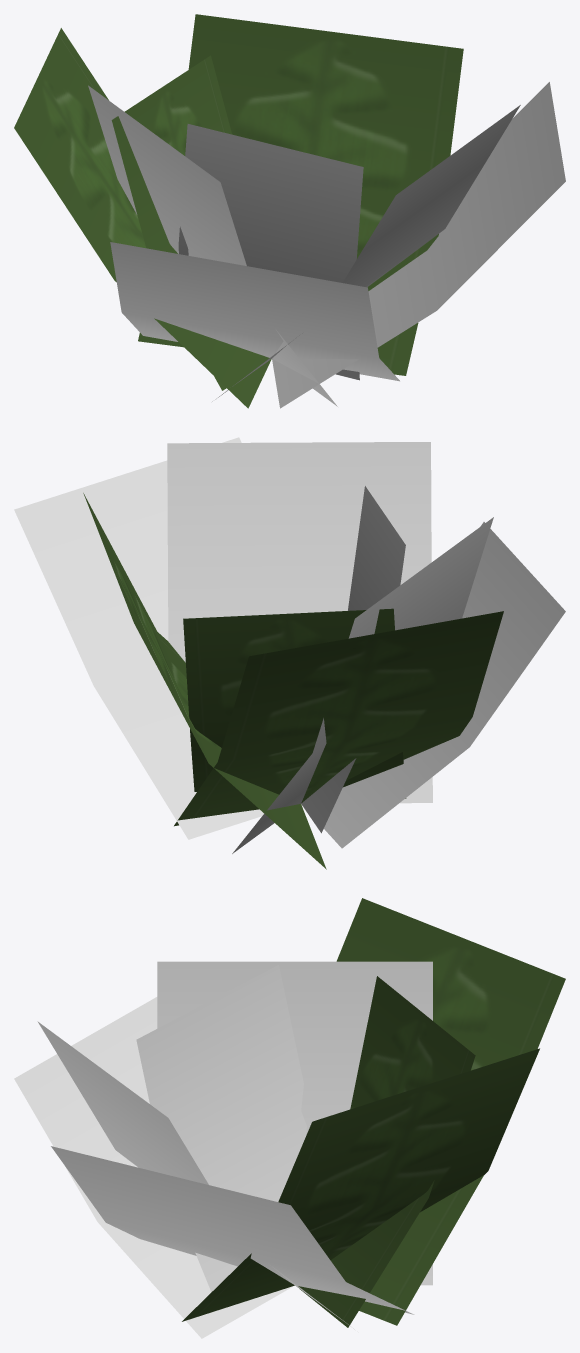
File: Plant_4.FBX
The picture shows the model from 3 angles, top to bottom: view 1: azimuth 30°, elevation 25°; view 2: azimuth 150°, elevation 25°; view 3: azimuth 270°, elevation 25°; orthographic projection. The views are drawn at different scales.
Parts seen in each view (by area): view 1: Plane020, Plane026, Plane024, Plane022, Plane025, Plane019, Plane021, Plane023; view 2: Plane021, Plane025, Plane024, Plane026, Plane023, Plane019, Plane020, Plane022; view 3: Plane020, Plane022, Plane025, Plane024, Plane019, Plane026, Plane023, Plane021.
Boxes of the visible parts, left/top/right/bottom form: Plane020: left=138, top=14, right=463, bottom=375; Plane026: left=110, top=242, right=399, bottom=381; Plane024: left=272, top=82, right=565, bottom=408; Plane022: left=178, top=124, right=363, bottom=380; Plane025: left=14, top=28, right=271, bottom=408; Plane019: left=88, top=85, right=337, bottom=406; Plane021: left=212, top=105, right=520, bottom=401; Plane023: left=111, top=55, right=231, bottom=390; Plane021: left=167, top=442, right=432, bottom=803; Plane025: left=174, top=611, right=503, bottom=826; Plane024: left=14, top=437, right=263, bottom=839; Plane026: left=324, top=522, right=565, bottom=848; Plane023: left=183, top=608, right=406, bottom=798; Plane019: left=232, top=517, right=493, bottom=853; Plane020: left=83, top=493, right=326, bottom=869; Plane022: left=301, top=486, right=405, bottom=833; Plane020: left=182, top=1048, right=539, bottom=1321; Plane022: left=136, top=965, right=306, bottom=1291; Plane025: left=336, top=898, right=565, bottom=1325; Plane024: left=51, top=1146, right=414, bottom=1314; Plane019: left=157, top=961, right=432, bottom=1285; Plane026: left=14, top=997, right=294, bottom=1338; Plane023: left=298, top=976, right=475, bottom=1327; Plane021: left=37, top=1021, right=354, bottom=1329.
Size of the model in its own units: 3.76 by 3.45 by 1.96.
Materials: 1 (1 with a texture image).
